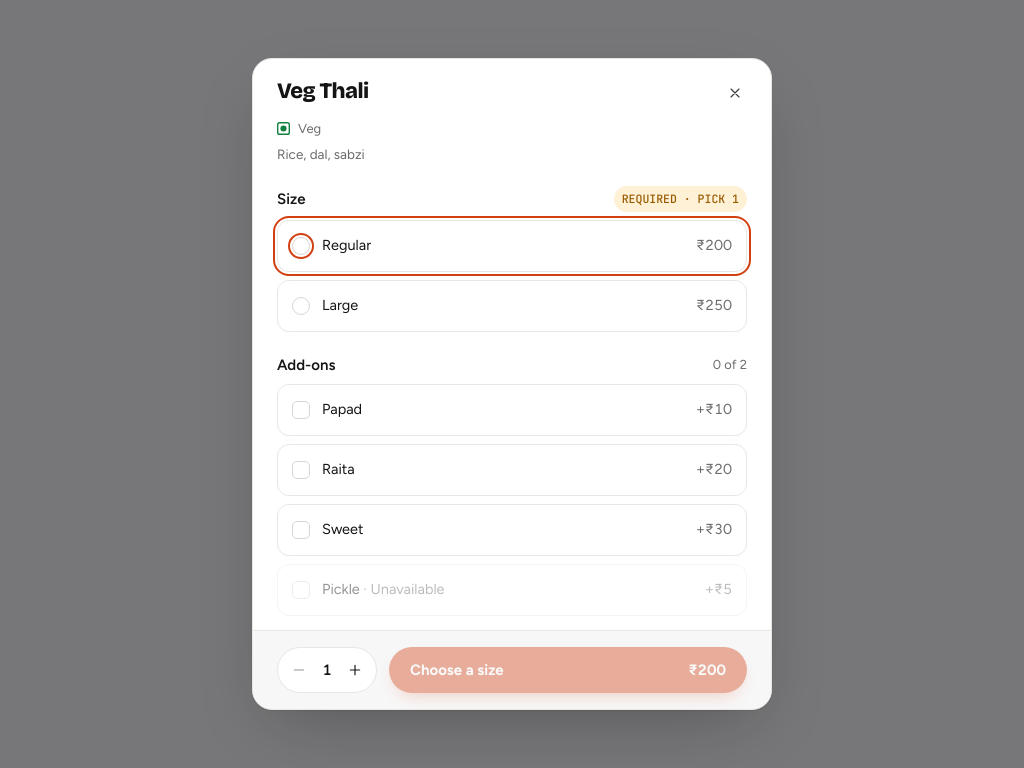
Test: ItemCustomizer › enforces maxSelect and blocks unavailable options
This screenshot has width=1024, height=768.
Click the checkbox labelled "Papad +₹10" at (342, 409), box [277,384,747,436]
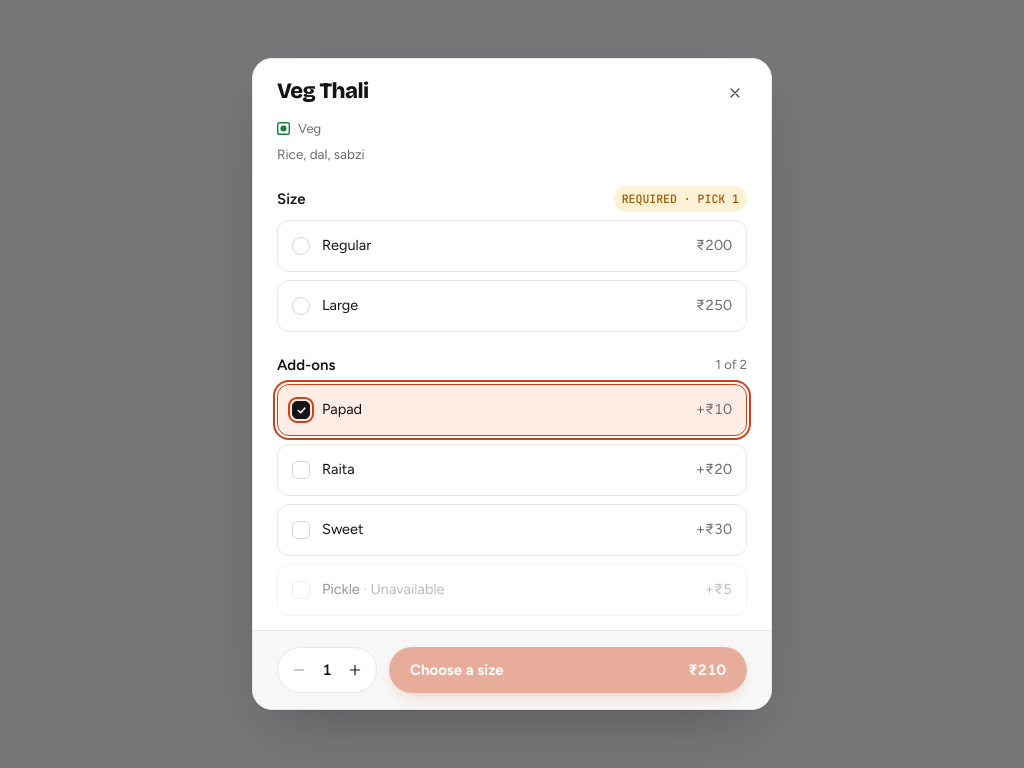
Click the checkbox labelled "Raita +₹20" at (338, 469), box [277,444,747,496]
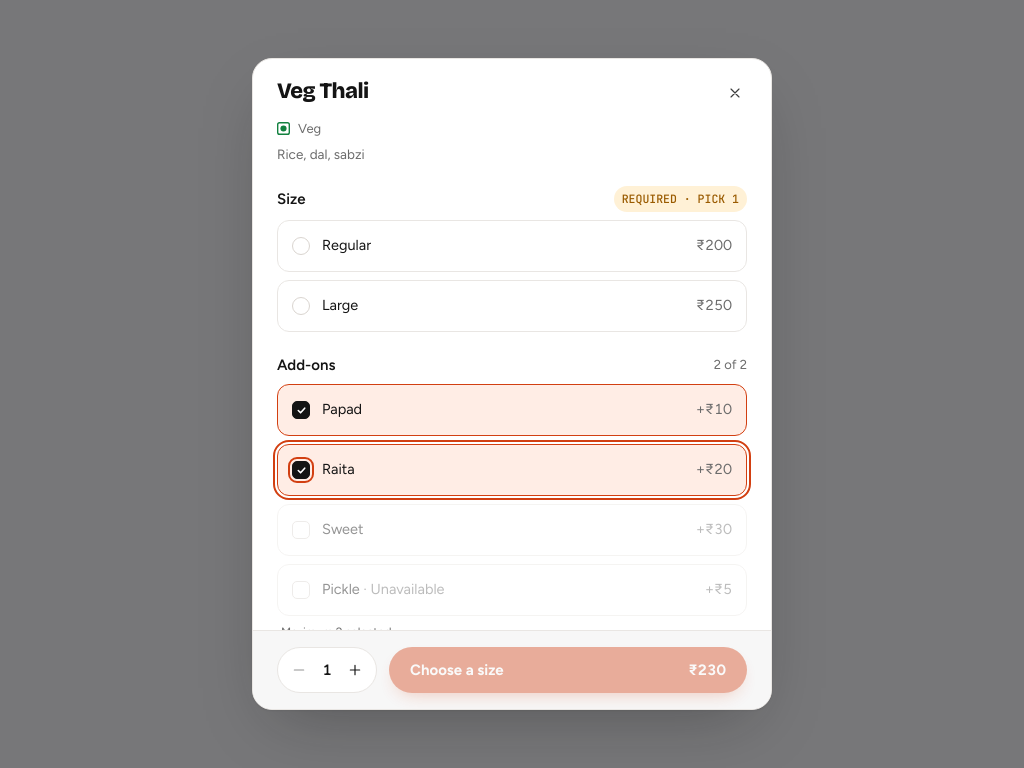
Expected: the checkbox labelled "Pickle · Unavailable +₹5" is disabled, [277,564,747,616]
Now the checkbox labelled "Sweet +₹30" is disabled, box [277,504,747,556]
Click the checkbox labelled "Papad +₹10" at (342, 409), box [277,384,747,436]
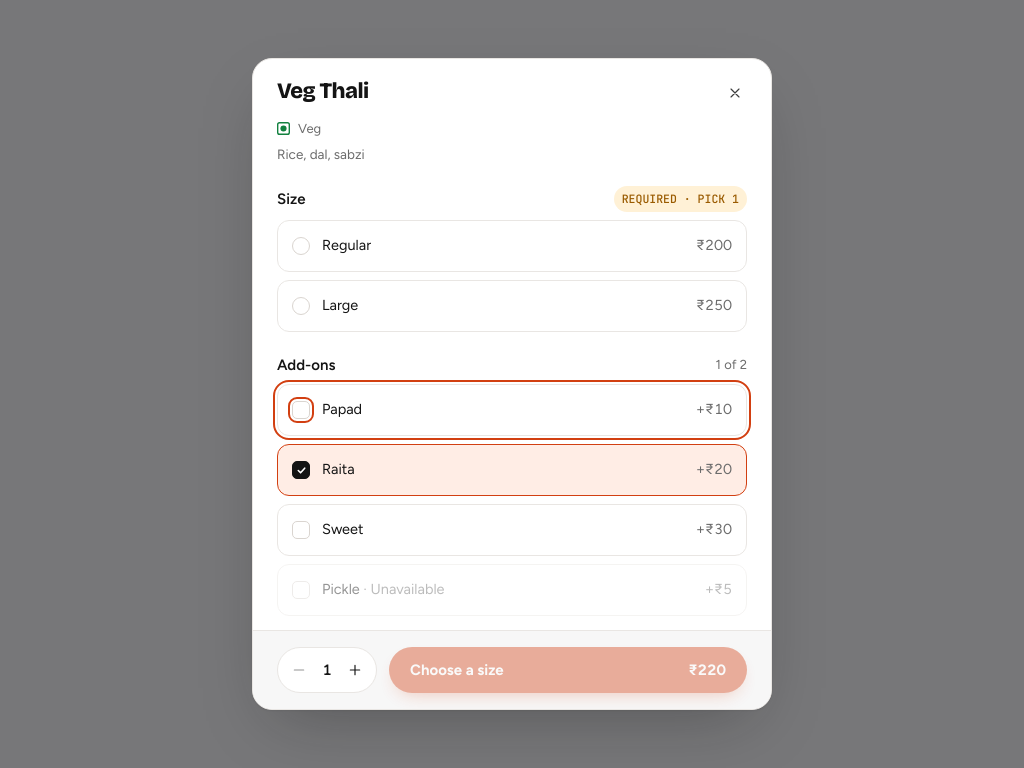
Now the checkbox labelled "Sweet +₹30" is enabled, box [277,504,747,556]
